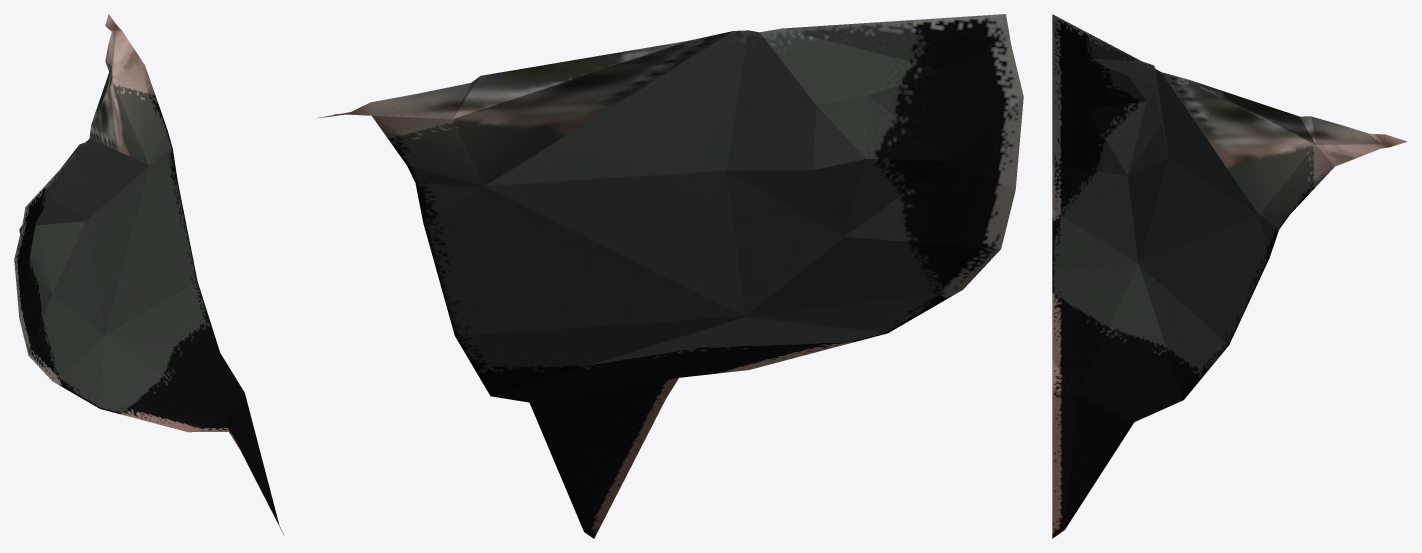
3 renders of one model, left to right at view 1: azimuth 30°, elevation 25°; view 2: azimuth 150°, elevation 25°; view 3: azimuth 270°, elevation 25°, orthographic. The views are drawn at different scales.
Bounding box in the file's own units: 1.02 × 1.42 × 1.15.
Materials: 2 (2 with a texture image).
